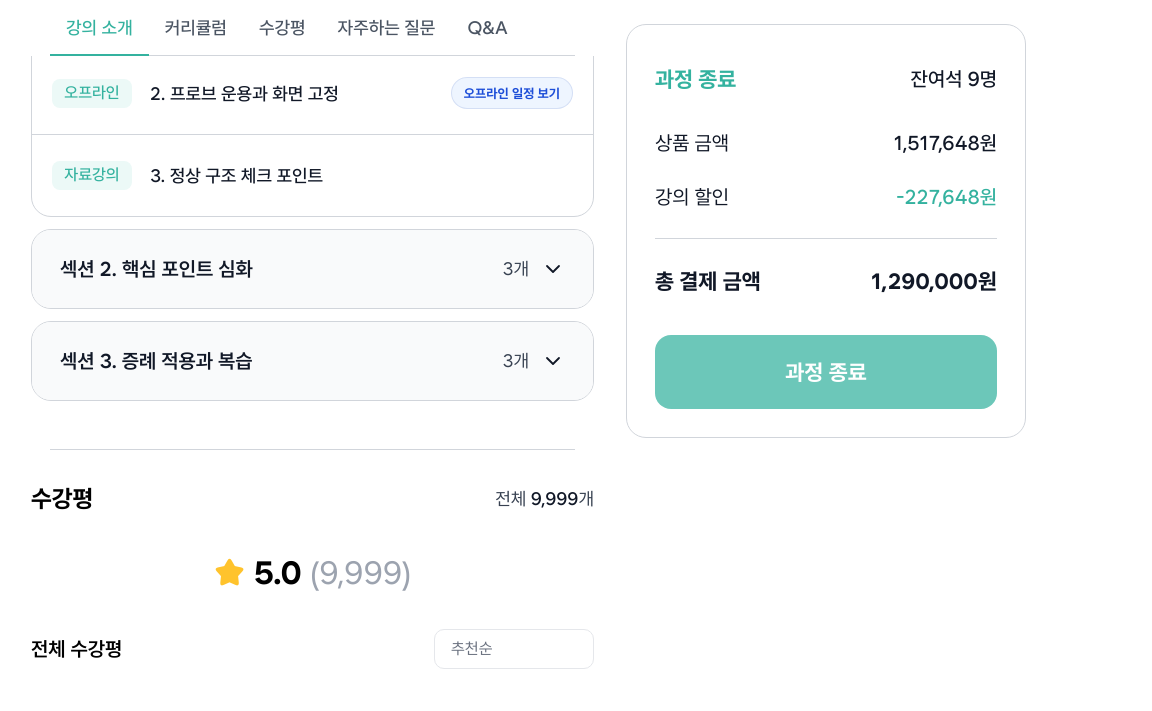
Test: ProgramPage › renders a cohort lecture detail page on its direct child path
This screenshot has width=1152, height=711.
(page scrolled)
Expected: the button "Q&A" is shown, [451, 16, 524, 56]
Expected: the button "자주하는 질문" is shown, [322, 16, 451, 56]
Click the button "섹션 3. 증례 적용과 복습 3개": (80, 361) [32, 322, 593, 400]
(page scrolled)
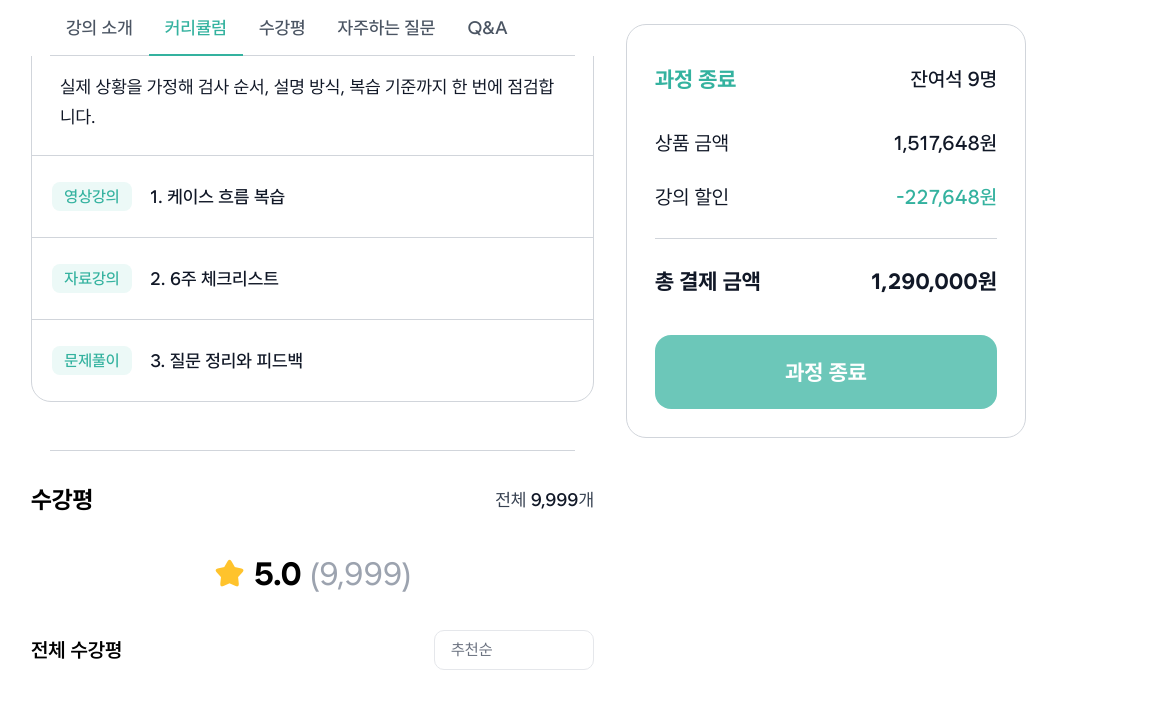
Expected: the text "문제풀이" is shown, [52, 346, 132, 375]
